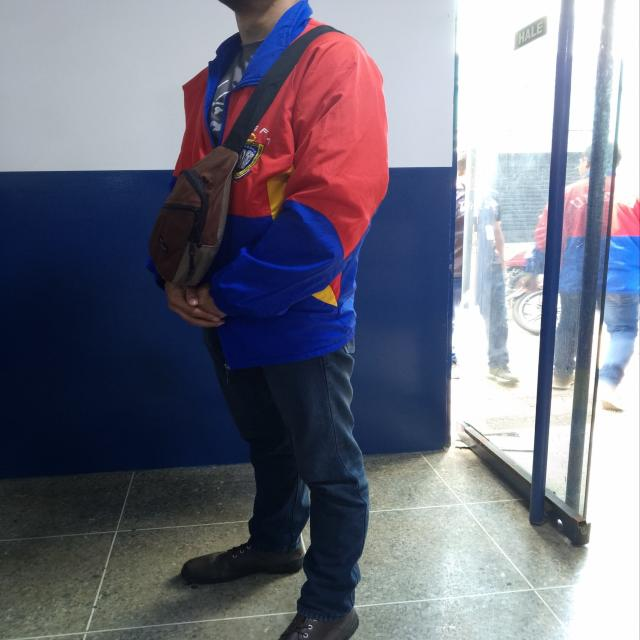chaqueta_unefa: (156, 0, 390, 368), (522, 169, 640, 291)
pantalon_oscuro: (208, 339, 372, 619)
